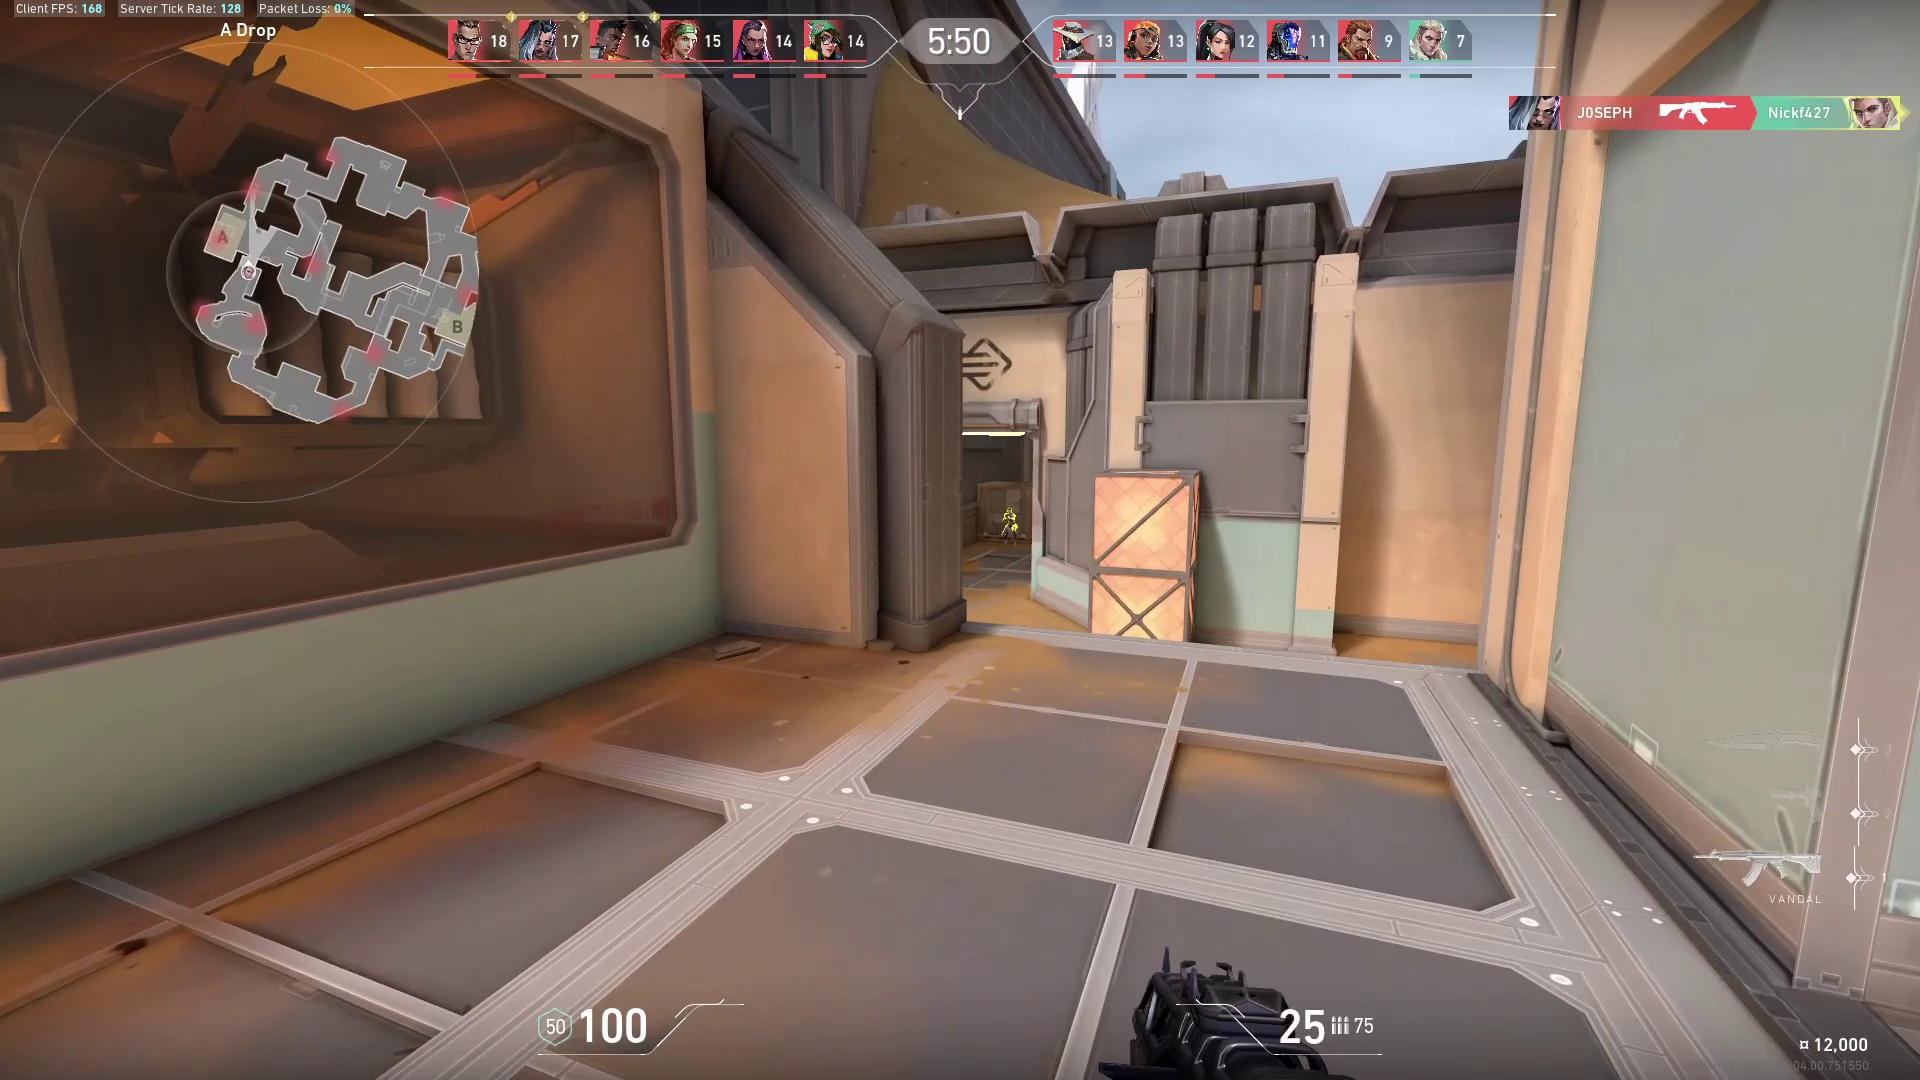enemy_body: (997, 516, 1025, 549)
enemy_head: (1004, 504, 1014, 516)
